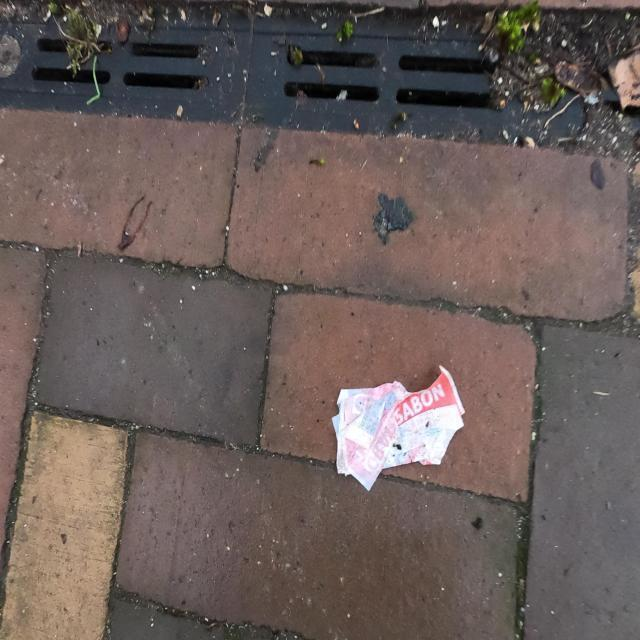Paper: (328, 372, 468, 468)
